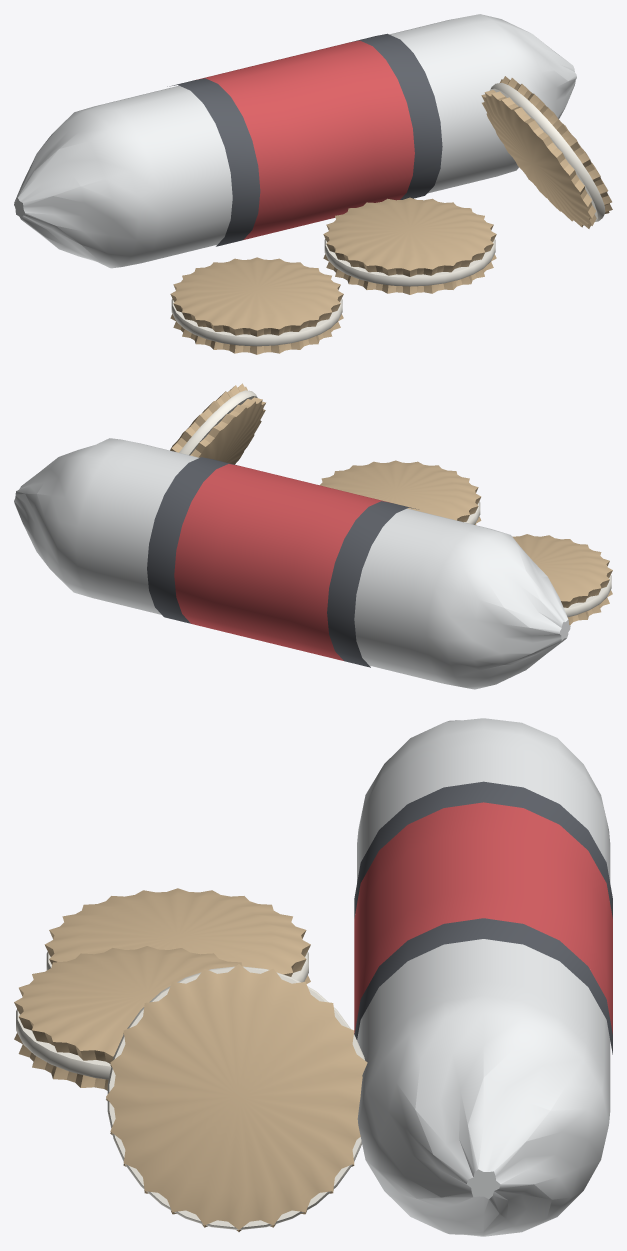
The model's file is fresh-produce-and-groceries-biscuit-pack-a71cc484__24428.glb.
3 renders of one model, top to bottom at view 1: azimuth 30°, elevation 25°; view 2: azimuth 150°, elevation 25°; view 3: azimuth 270°, elevation 25°, orthographic. The views are drawn at different scales.
Parts seen in each view (by area): view 1: biscuit-pack; view 2: biscuit-pack; view 3: biscuit-pack.
Part boxes in pixels (x1,y1,x2,y2): biscuit-pack: (14, 14, 612, 354); biscuit-pack: (14, 383, 612, 689); biscuit-pack: (14, 718, 612, 1236).
Bounding box in the file's own units: 0.224 × 0.0608 × 0.1371.
